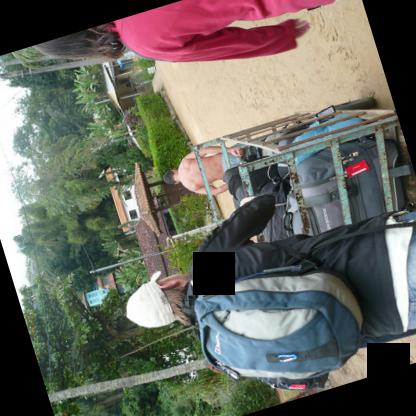backpack: (180, 260, 362, 380)
suitcase: (292, 132, 406, 231), (255, 175, 289, 241), (277, 118, 314, 144), (282, 192, 304, 234), (222, 165, 245, 200), (237, 143, 260, 162)
